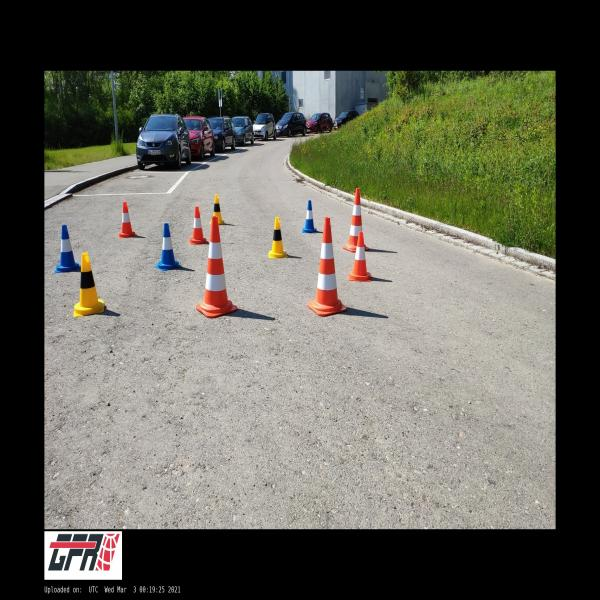blue_cone: (54, 224, 81, 273), (155, 223, 181, 271), (302, 200, 318, 234)
large_orange_cone: (196, 216, 237, 318), (307, 217, 347, 316), (343, 188, 369, 252)
orange_cone: (349, 232, 371, 281), (189, 206, 208, 244), (118, 202, 136, 238)
yellow_cone: (73, 252, 105, 317), (268, 217, 288, 258), (210, 194, 224, 225)
